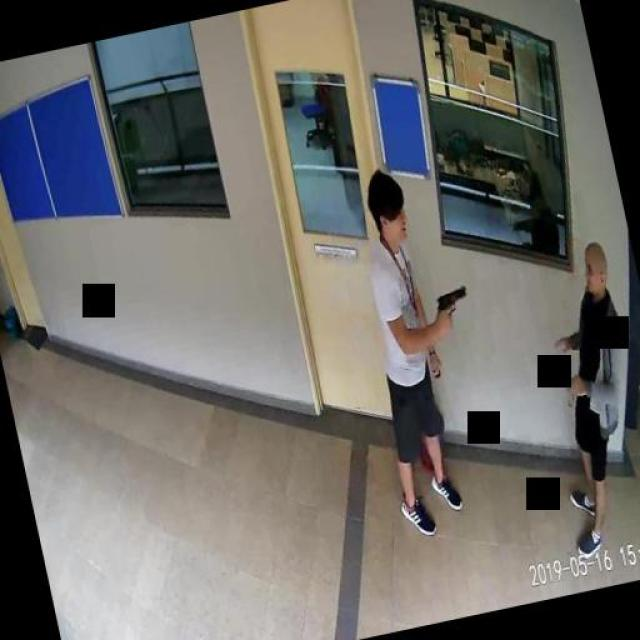gun: (431, 282, 471, 332)
